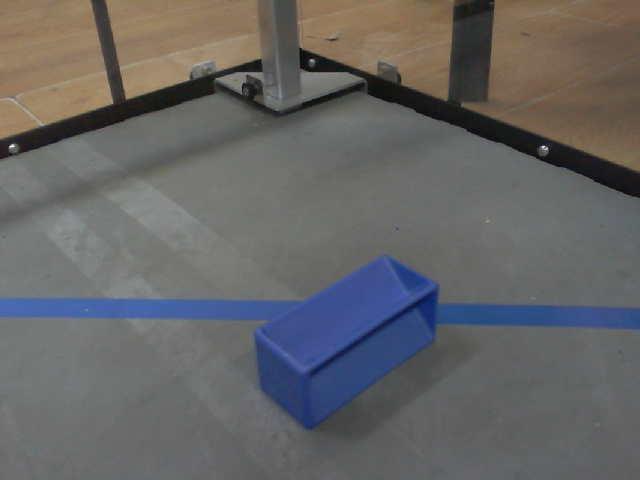BlueSample: (250, 252, 444, 434)
